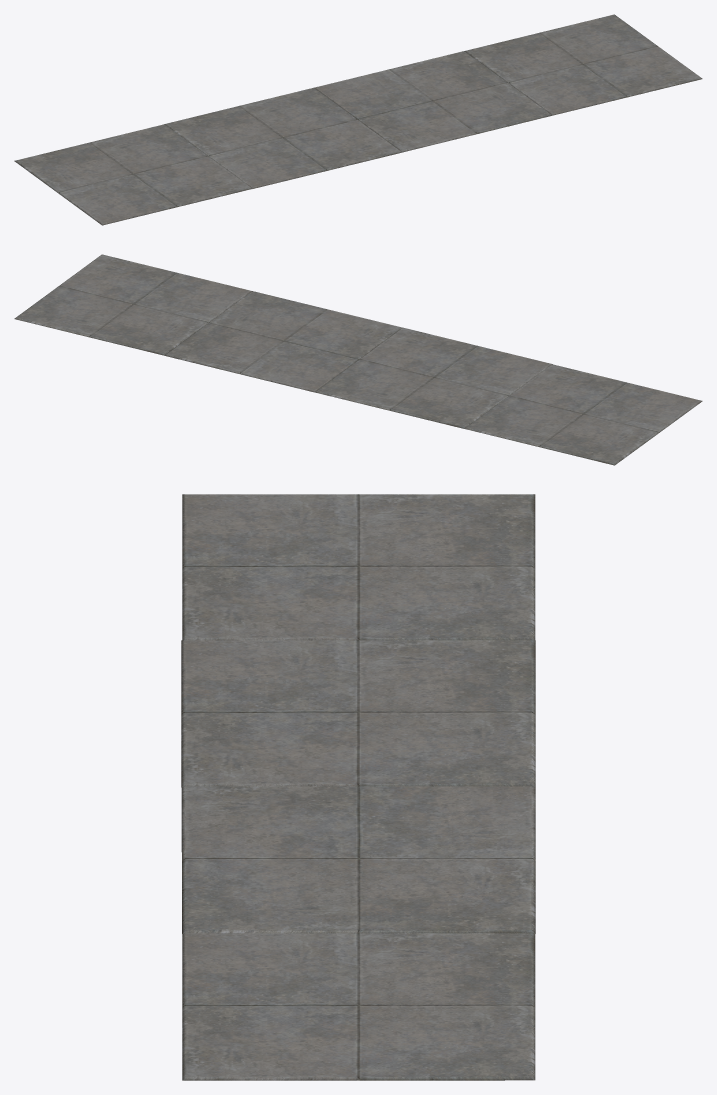
The model's file is SM_DriveWay_01.fbx.
The picture shows the model from 3 angles, top to bottom: view 1: azimuth 30°, elevation 25°; view 2: azimuth 150°, elevation 25°; view 3: azimuth 270°, elevation 25°; orthographic projection. The views are drawn at different scales.
Parts seen in each view (by area): view 1: SM_DriveWay_01; view 2: SM_DriveWay_01; view 3: SM_DriveWay_01.
Part boxes in pixels (x1,y1,x2,y2): SM_DriveWay_01: [14, 14, 702, 225]; SM_DriveWay_01: [14, 254, 702, 465]; SM_DriveWay_01: [181, 494, 535, 1080].
Size of the model in its own units: 915 by 234 by 1.39.
Materials: 1 (1 with a texture image).
